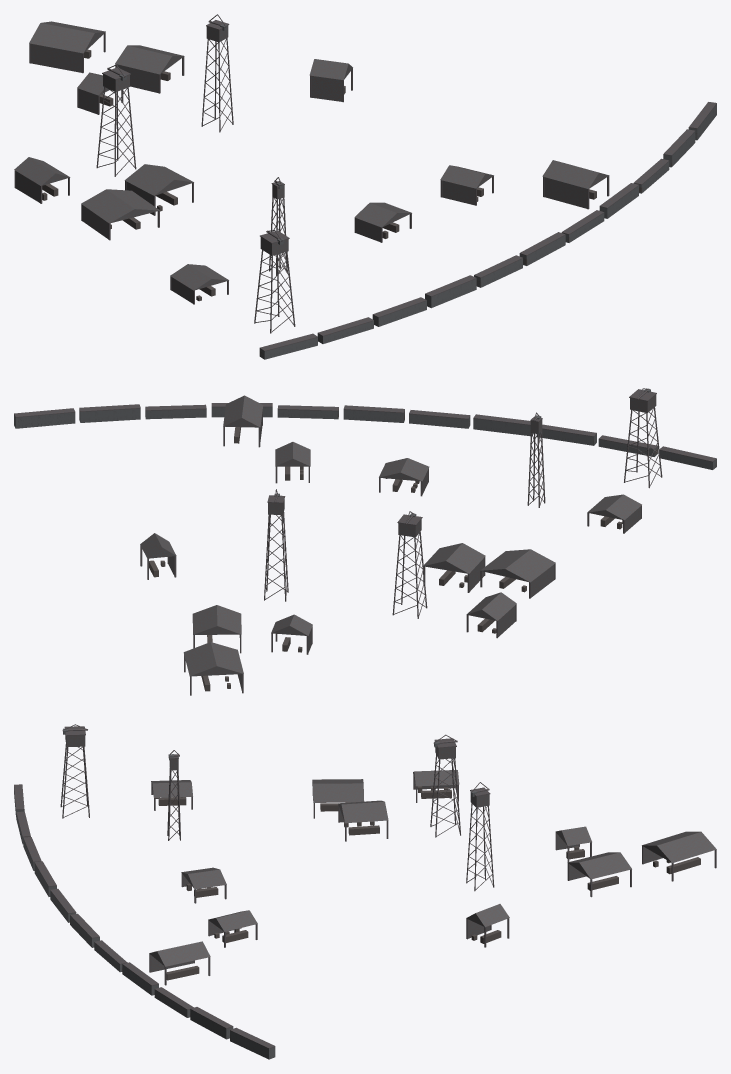
File: SM_City_MarsaAlFajr_6.fbx
The picture shows the model from 3 angles, top to bottom: view 1: azimuth 30°, elevation 25°; view 2: azimuth 150°, elevation 25°; view 3: azimuth 270°, elevation 25°; orthographic projection. The views are drawn at different scales.
Parts seen in each view (by area): view 1: SM_City_MarsaAlFajr_6; view 2: SM_City_MarsaAlFajr_6; view 3: SM_City_MarsaAlFajr_6.
Boxes of the visible parts, <box> form: SM_City_MarsaAlFajr_6: <box>14,14,716,359</box>; SM_City_MarsaAlFajr_6: <box>14,388,716,695</box>; SM_City_MarsaAlFajr_6: <box>14,724,716,1059</box>.
Size of the model in its own units: 9119 by 1615 by 9954.
Materials: 4 (4 with a texture image).
